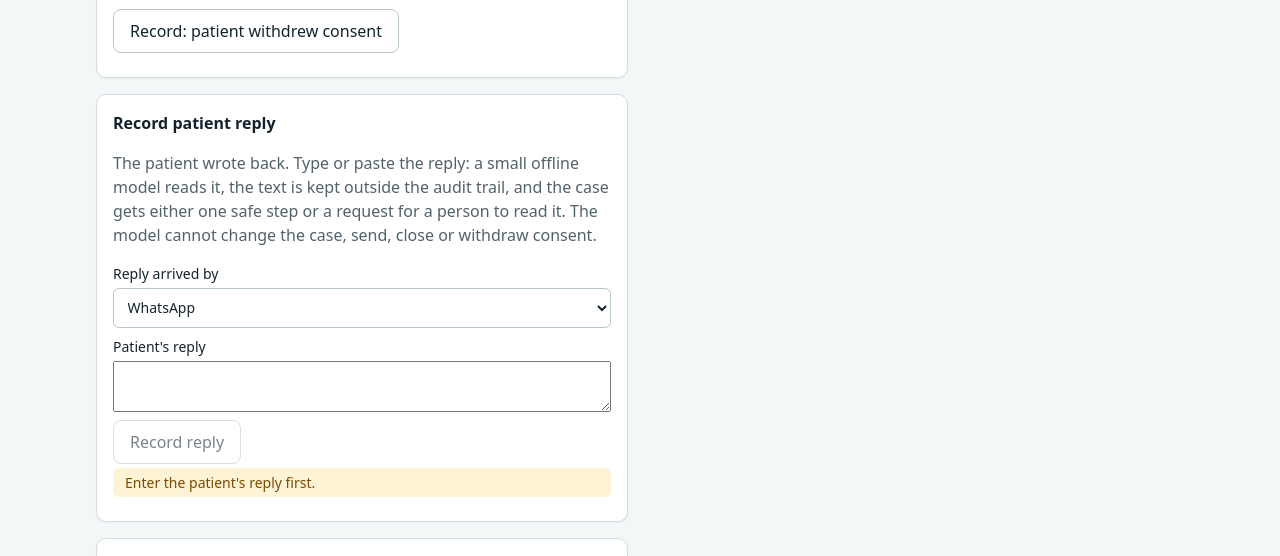
Record patient reply › an uncertain reply flags the case for a person and says so, and the case page shows the review banner
The image size is (1280, 556).
(page scrolled)
Expected: the element with test id "reply-panel" is shown, [96, 94, 628, 522]
Type "شنو يعني هالنتيجة؟" into the text box with test id "reply-text" at (362, 386), box [113, 361, 611, 412]
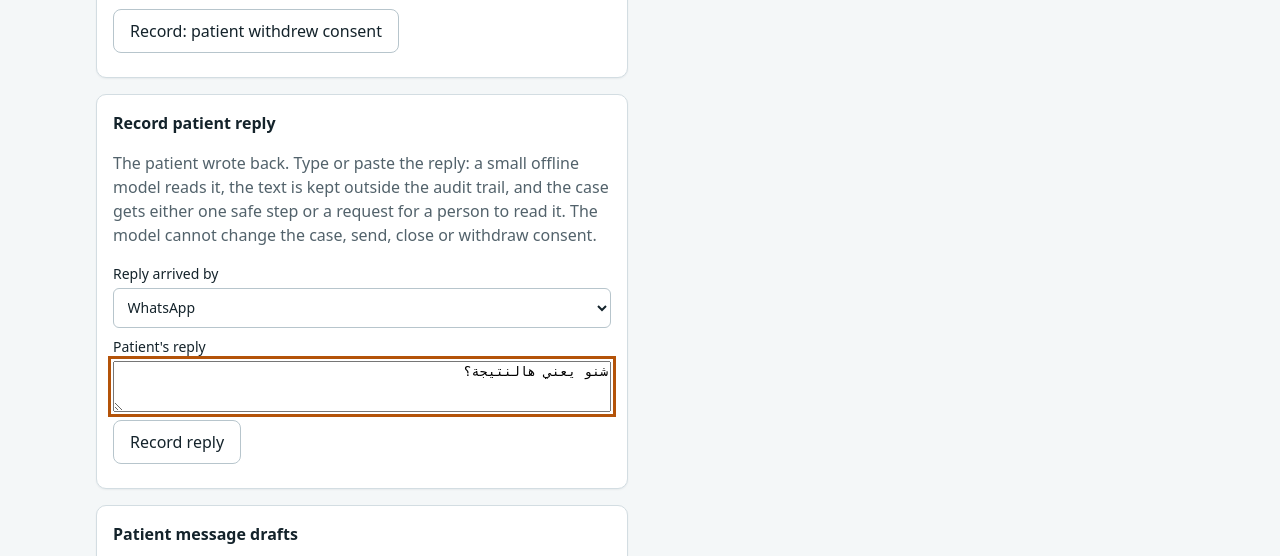
Click the button with test id "record-reply" at (177, 442), box [113, 420, 241, 464]
(page scrolled)
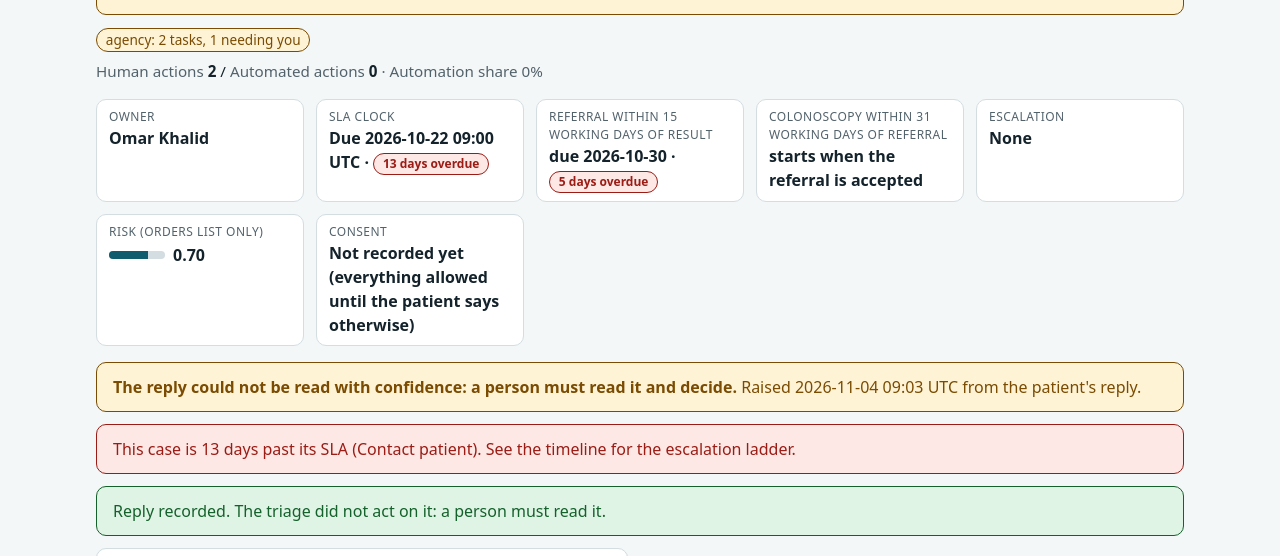
Expected: the message with test id "triage-review-banner" is shown, [96, 362, 1184, 412]
